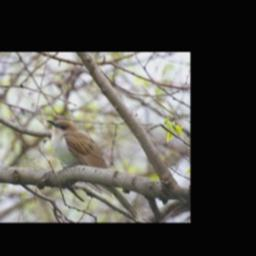Cuckoo: (46, 119, 142, 223)
